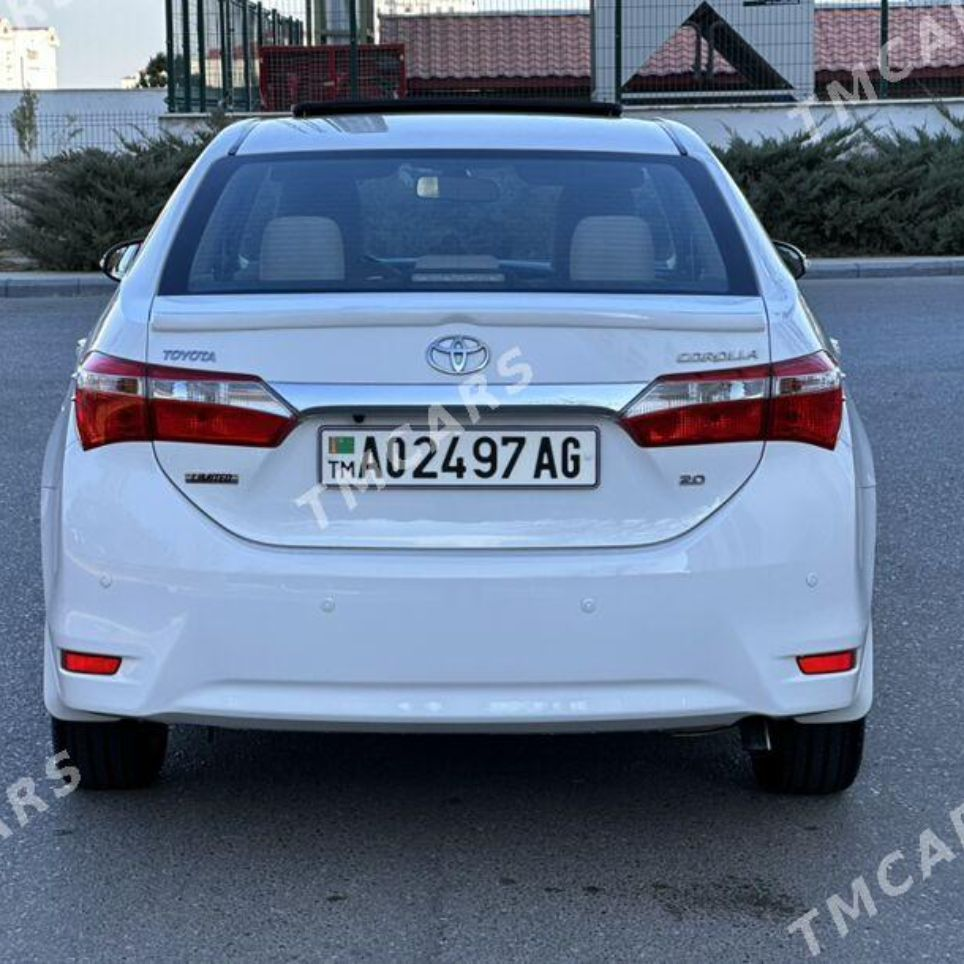license plate: (321, 429, 600, 485)
truck: (43, 108, 876, 797)
